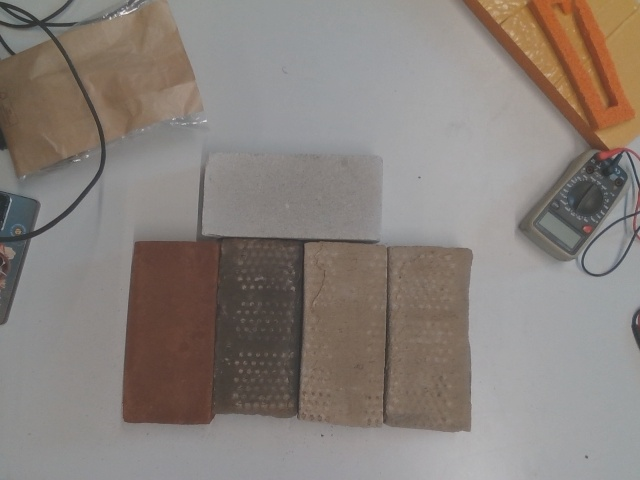brick: (126, 240, 211, 419), (208, 153, 377, 236), (303, 245, 382, 421), (392, 249, 467, 425), (224, 244, 296, 412)
